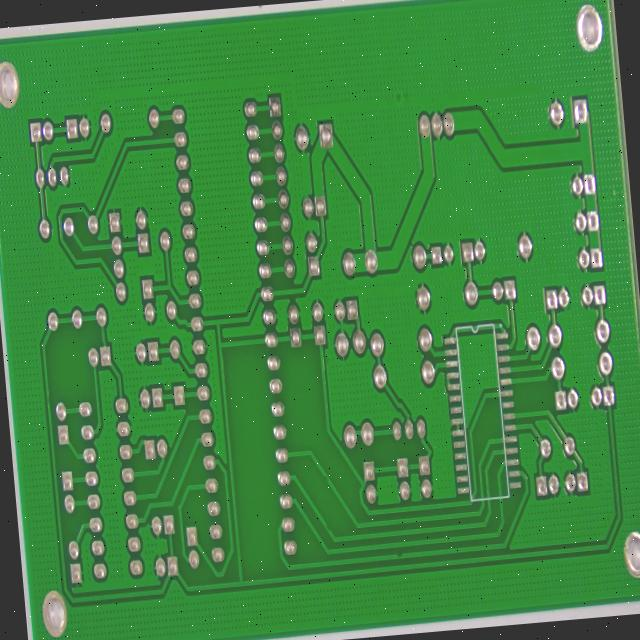mouse_bite: (392, 582, 403, 601), (320, 553, 329, 571), (318, 500, 327, 517)
